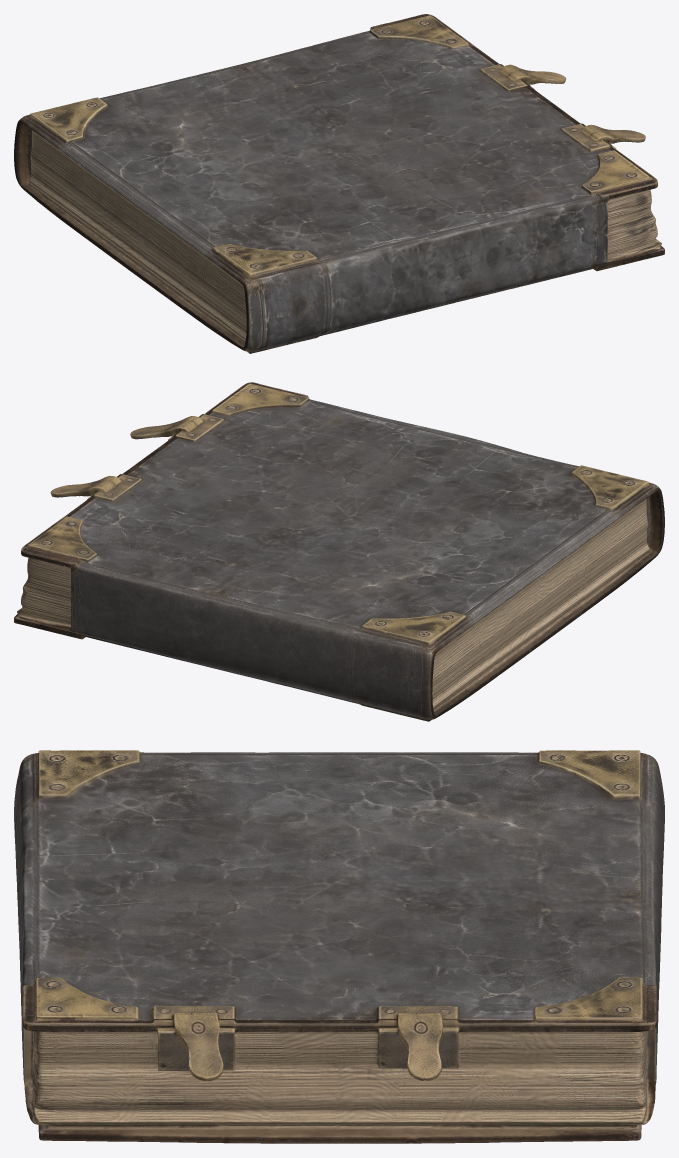
The model's file is clue_black_registry.glb.
3 views of the same model, one above another, from view 1: azimuth 30°, elevation 25°; view 2: azimuth 150°, elevation 25°; view 3: azimuth 270°, elevation 25° (orthographic). The views are drawn at different scales.
Bounding box in the file's own units: 1.9 × 0.3333 × 1.68.
Materials: 1 (1 with a texture image).
